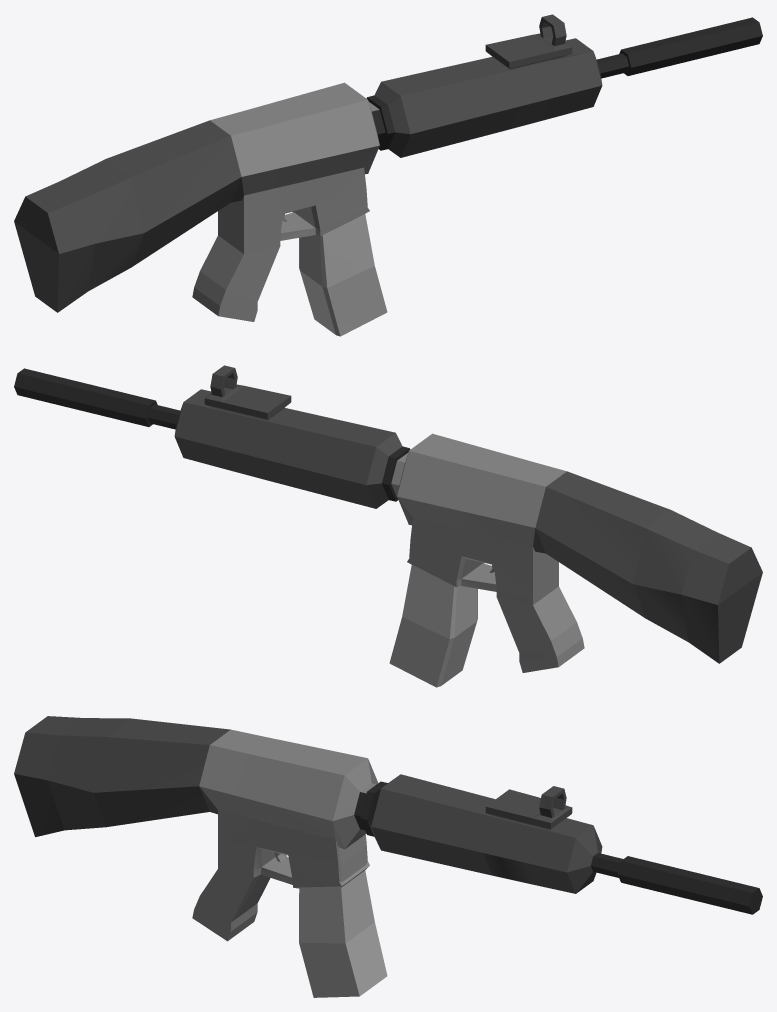
The model's file is Assualt Rifle.FBX.
3 views of the same model, one above another, from view 1: azimuth 30°, elevation 25°; view 2: azimuth 150°, elevation 25°; view 3: azimuth 330°, elevation 25° (orthographic).
Visible parts, largest first — view 1: AssaultRifle; view 2: AssaultRifle; view 3: AssaultRifle.
Boxes of the visible parts, left/top/right/bottom form: AssaultRifle: left=14, top=14, right=762, bottom=336; AssaultRifle: left=14, top=365, right=762, bottom=687; AssaultRifle: left=14, top=716, right=762, bottom=997.
Bounding box in the file's own units: 240 × 80.18 × 29.22.
1 material, 1 textured.
